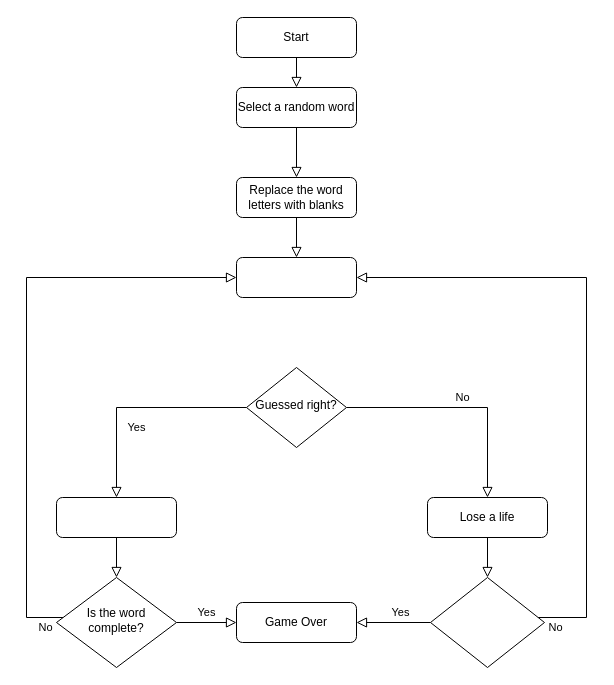
Image size: 614x685. Some labels were removed from this diagram. Each missing label, with the centre of its shape:
Ask the user to guess a letter: pixel 296 277
Have they run out of lifes?: pixel 487 622
Replace the blank with the letter: pixel 116 517
